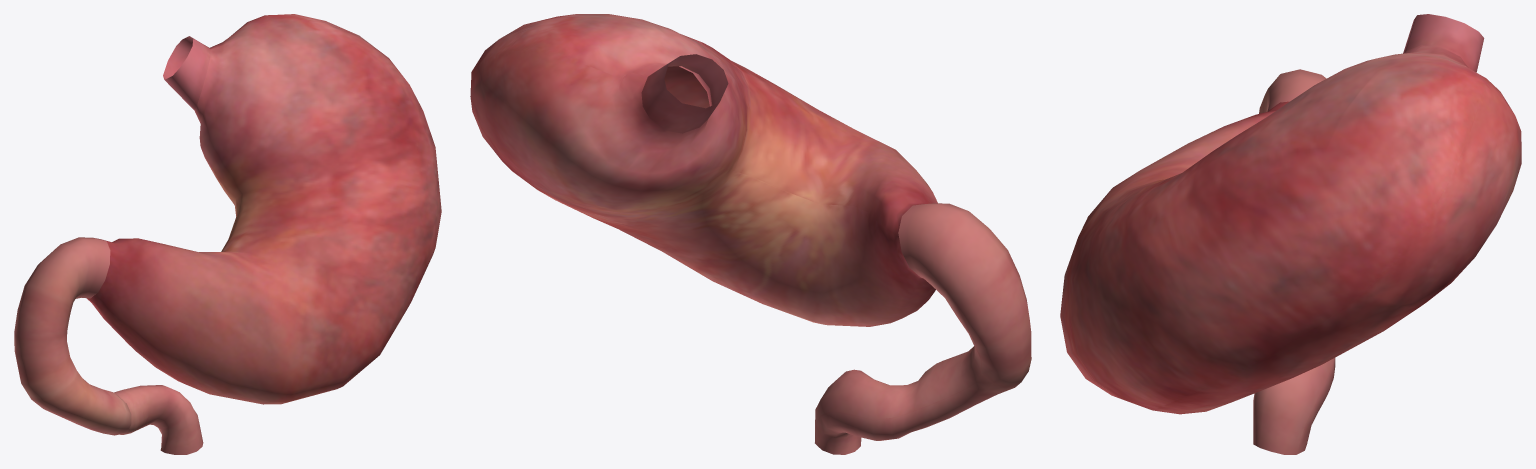
Rendered from 1.3 Stmoch.glb.
The picture shows the model from 3 angles, left to right: view 1: azimuth 30°, elevation 25°; view 2: azimuth 150°, elevation 25°; view 3: azimuth 270°, elevation 25°; orthographic projection. The views are drawn at different scales.
Visible parts, largest first — view 1: Stomach, Stomach_Duodenum, Esophagus; view 2: Stomach, Stomach_Duodenum, Esophagus; view 3: Stomach, Stomach_Duodenum, Esophagus.
Boxes of the visible parts, x1,y1,x2,y2 form: Stomach: [87, 14, 441, 404]; Stomach_Duodenum: [14, 237, 203, 454]; Esophagus: [163, 36, 210, 110]; Stomach: [470, 14, 937, 326]; Stomach_Duodenum: [815, 203, 1031, 454]; Esophagus: [641, 54, 728, 133]; Stomach: [1060, 45, 1521, 414]; Stomach_Duodenum: [1253, 69, 1335, 454]; Esophagus: [1403, 14, 1484, 72].
Size of the model in its own units: 0.1503 by 0.1192 by 0.104.
2 materials, 2 textured.
